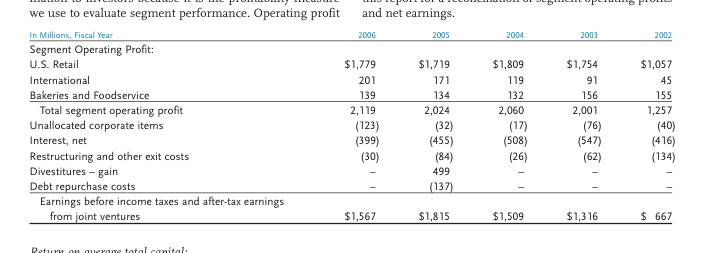table: (28, 28, 675, 222)
table column: (28, 28, 313, 222), (313, 28, 398, 222), (398, 28, 472, 222), (472, 28, 546, 222), (546, 28, 620, 222), (620, 28, 675, 222)
table column header: (28, 28, 675, 40)
table projected row header: (28, 40, 675, 56)
table row: (28, 192, 675, 222), (28, 40, 675, 56), (28, 116, 675, 132), (28, 56, 675, 71), (28, 71, 675, 86), (28, 86, 675, 101), (28, 101, 675, 116), (28, 132, 675, 147), (28, 147, 675, 162), (28, 162, 675, 177), (28, 177, 675, 192), (28, 28, 675, 40)
